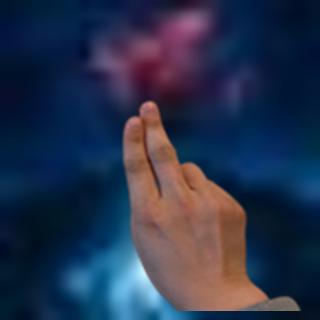DHAVE: (115, 95, 249, 307)
